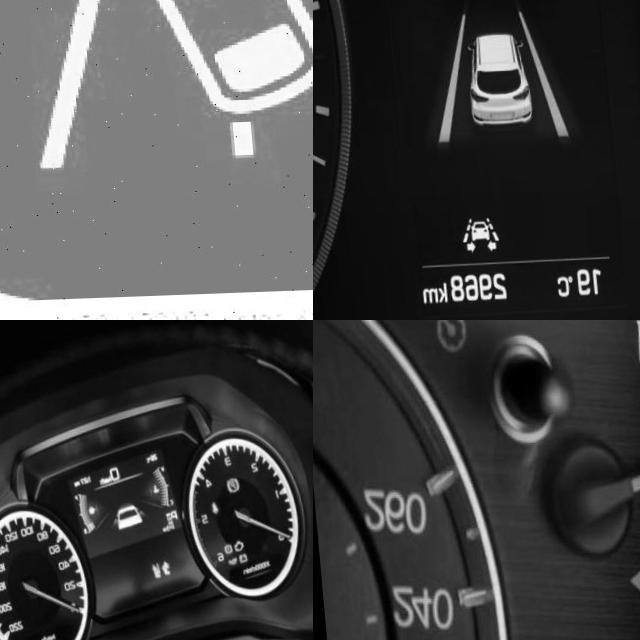Seat Belt: (206, 504, 215, 518)
